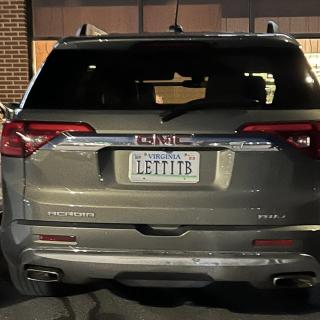license: (129, 153, 202, 184)
